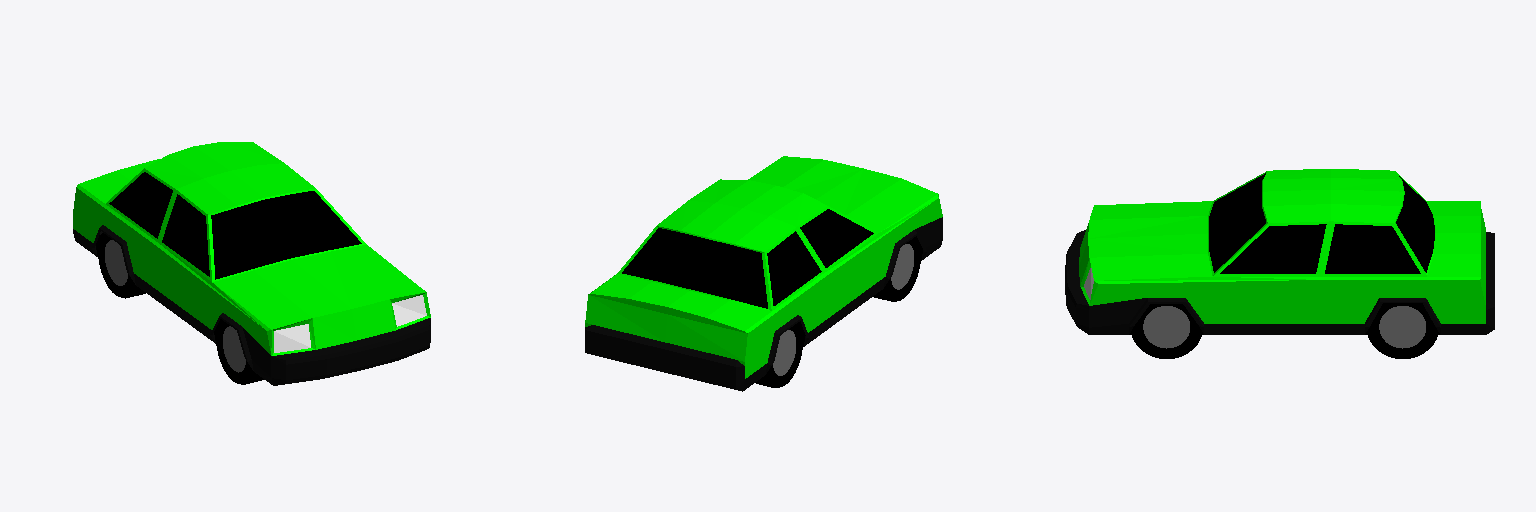
File: Car3.obj
3 views of the same model, side by side, from view 1: azimuth 30°, elevation 25°; view 2: azimuth 150°, elevation 25°; view 3: azimuth 270°, elevation 25° (orthographic).
Parts seen in each view (by area): view 1: Car_Cube; view 2: Car_Cube; view 3: Car_Cube.
Boxes of the visible parts, <box> form: Car_Cube: <box>73,142,430,385</box>; Car_Cube: <box>585,156,942,391</box>; Car_Cube: <box>1065,169,1494,358</box>.
Bounding box in the file's own units: 2.1 × 1.59 × 4.67.